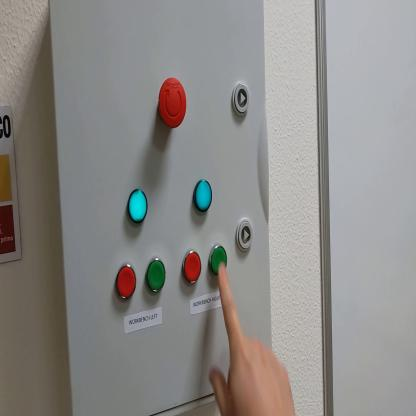hand: (210, 265, 296, 416)
left green button: (145, 256, 168, 295)
left red button: (114, 263, 138, 304)
right green button: (211, 242, 228, 277)
right red button: (184, 248, 203, 288)
